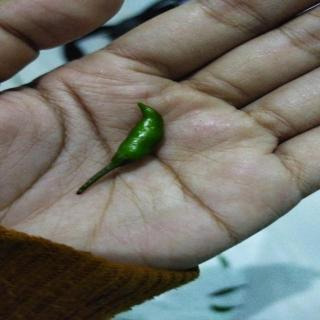Cabai Hijau: (74, 100, 170, 198)
